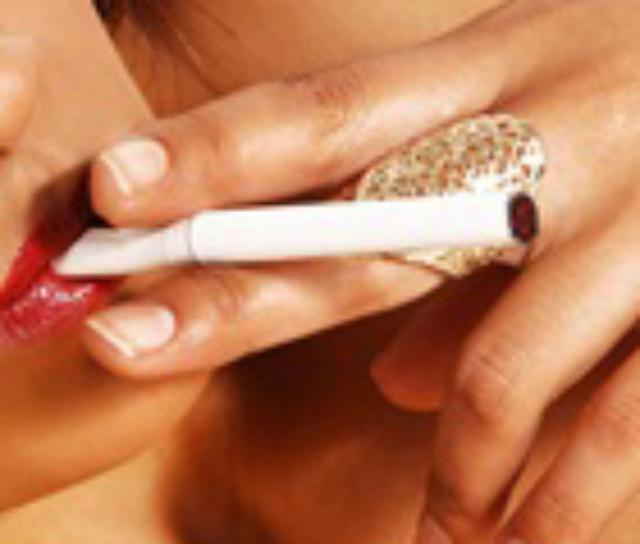Smoking: (43, 196, 541, 278)
